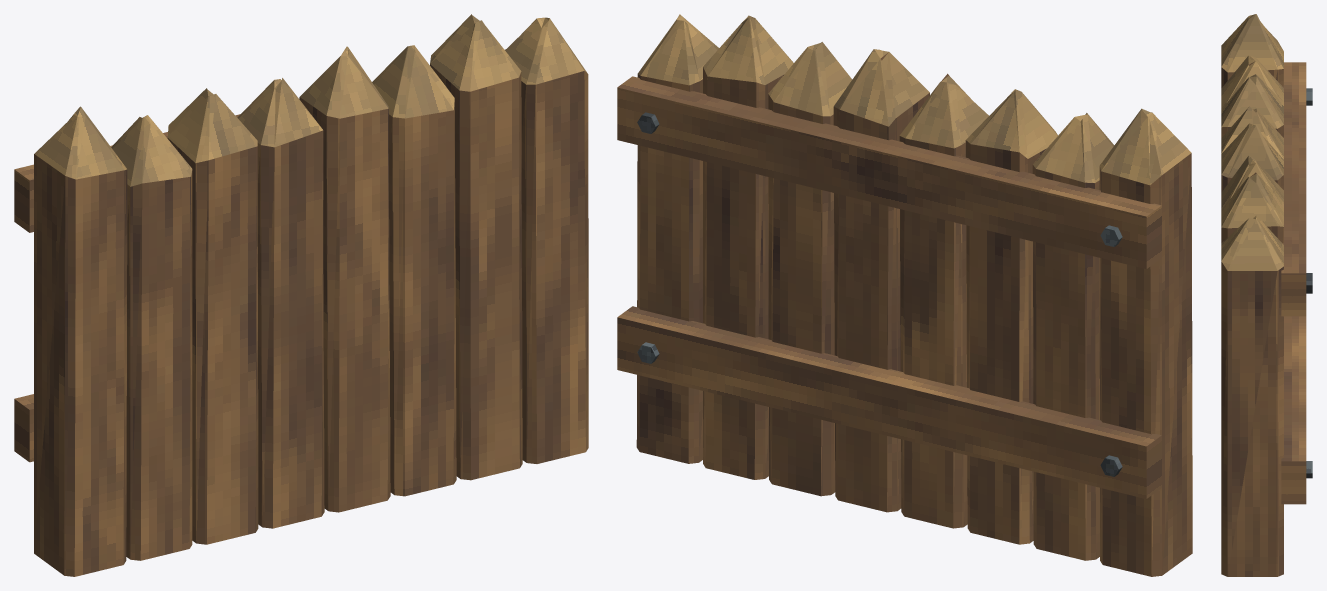
The model's file is pixel-fantasy-palisade-wall.glb.
3 views of the same model, side by side, from view 1: azimuth 30°, elevation 25°; view 2: azimuth 150°, elevation 25°; view 3: azimuth 270°, elevation 25° (orthographic). The views are drawn at different scales.
Parts seen in each view (by area): view 1: Palisade, Frame; view 2: Palisade, Frame, Hardware; view 3: Palisade, Frame, Hardware.
Boxes of the visible parts, x1,y1,x2,y2 form: Palisade: (34, 14, 588, 576); Frame: (14, 49, 505, 462); Palisade: (636, 14, 1192, 576); Frame: (617, 76, 1161, 498); Hardware: (637, 112, 1122, 476); Palisade: (1221, 14, 1283, 576); Frame: (1281, 62, 1306, 504); Hardware: (1306, 88, 1312, 478).
Size of the model in its own units: 4 by 3.24 by 0.73.
Materials: 1 (1 with a texture image).
